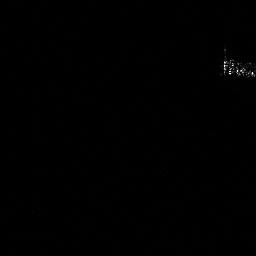ship: (219, 48, 256, 80)
